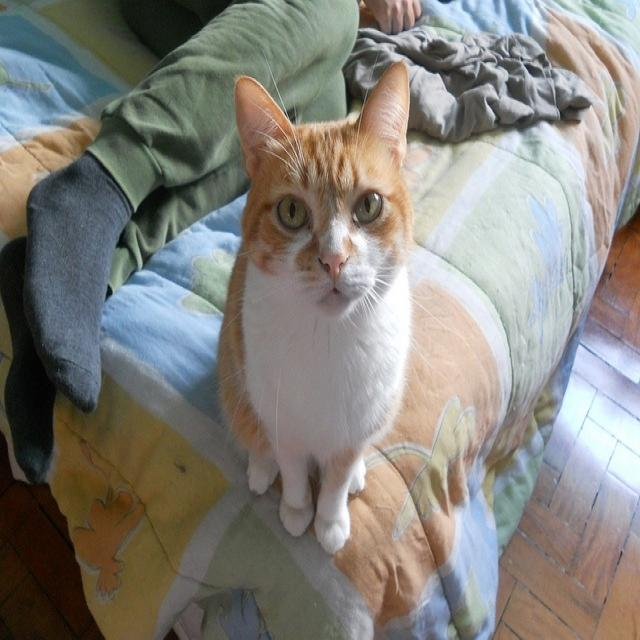Left_ear: (364, 53, 414, 162)
Left_eye: (351, 184, 388, 227)
Nouse: (320, 252, 350, 280)
Right_ear: (226, 74, 287, 175)
Right_eye: (278, 192, 312, 234)
